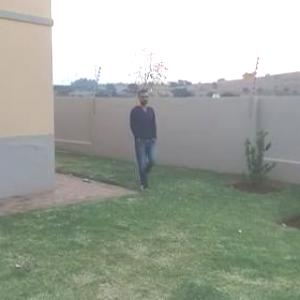follow: (120, 87, 155, 191)
